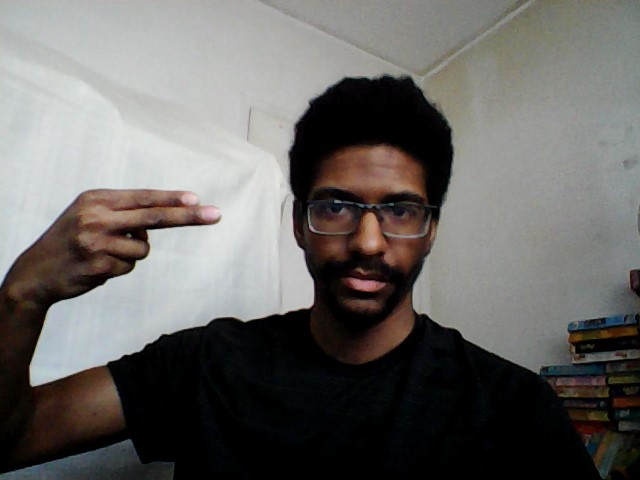h: (18, 186, 224, 306)
